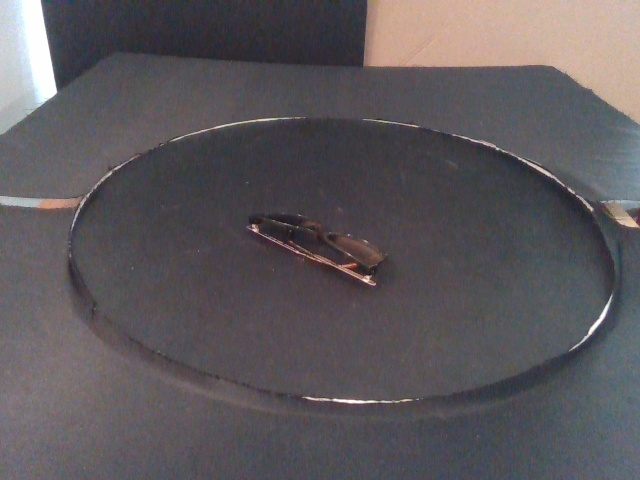glasses: (246, 211, 388, 287)
